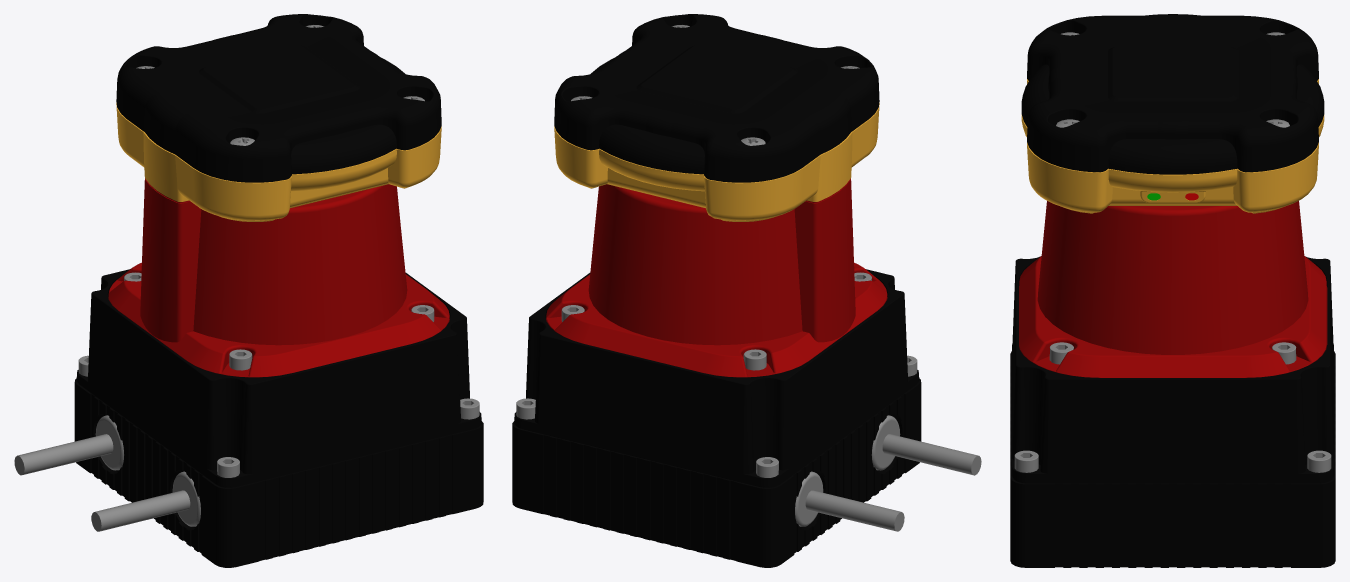
File: UTM_30_LX.dae
3 renders of one model, left to right at view 1: azimuth 30°, elevation 25°; view 2: azimuth 150°, elevation 25°; view 3: azimuth 270°, elevation 25°, orthographic. The views are drawn at different scales.
Parts seen in each view (by area): view 1: UTM-30LX_LN; view 2: UTM-30LX_LN; view 3: UTM-30LX_LN.
Part boxes in pixels (x1,y1,x2,y2): UTM-30LX_LN: (14, 14, 483, 567); UTM-30LX_LN: (512, 14, 981, 567); UTM-30LX_LN: (1010, 14, 1335, 567).
Size of the model in its own units: 0.0798 by 0.06 by 0.087.
